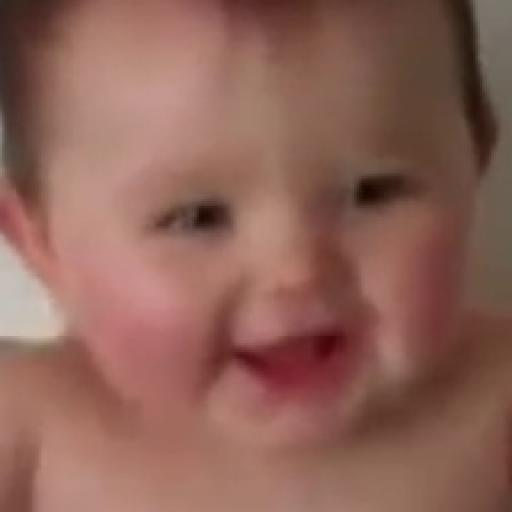Autism: (16, 12, 490, 472)
